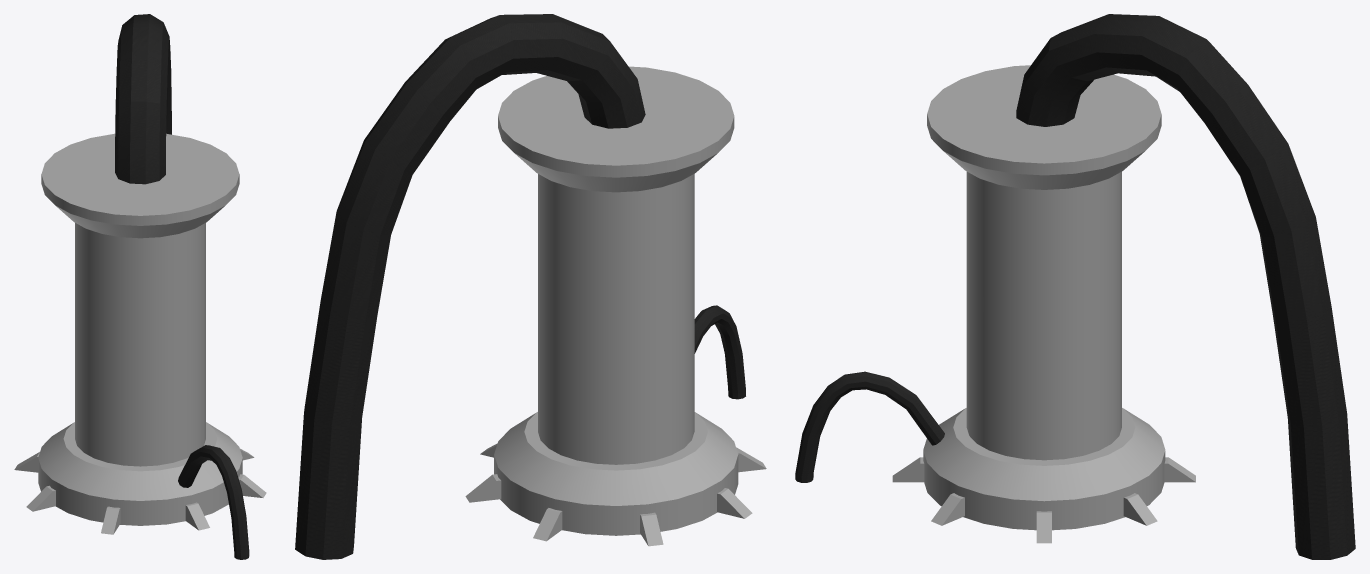
The model's file is lab-tank.fbx.
The picture shows the model from 3 angles, left to right: view 1: azimuth 30°, elevation 25°; view 2: azimuth 150°, elevation 25°; view 3: azimuth 270°, elevation 25°; orthographic projection. The views are drawn at different scales.
Parts seen in each view (by area): view 1: glass, base1, base, big_tube, tube, leg, leg3, leg8, leg7; view 2: big_tube, glass, base1, base, tube, leg9, leg, leg2, leg6; view 3: big_tube, glass, base1, base, tube, leg9, leg7.
Part boxes in pixels (x1,y1,x2,y2): glass: (75,223,205,466); base1: (41,133,239,238); base: (38,422,242,525); big_tube: (115,14,171,184); tube: (178,445,249,559); leg: (26,485,55,511); leg3: (185,502,209,530); leg8: (101,506,120,534); leg7: (238,474,266,497); big_tube: (295,14,645,559); glass: (538,174,694,464); base1: (498,66,734,192); base: (494,412,738,535); tube: (694,305,745,399); leg9: (465,474,501,502); leg: (717,488,752,518); leg2: (533,508,562,541); leg6: (640,512,663,546); big_tube: (1016,14,1355,559); glass: (966,171,1121,460); base1: (927,65,1161,189); base: (923,408,1165,530); tube: (795,371,944,482); leg9: (1123,493,1157,525); leg7: (931,493,964,525).
Bounding box in the file's own units: 582 × 888 × 923.
